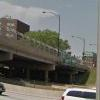Bridge: (0, 13, 87, 81)
